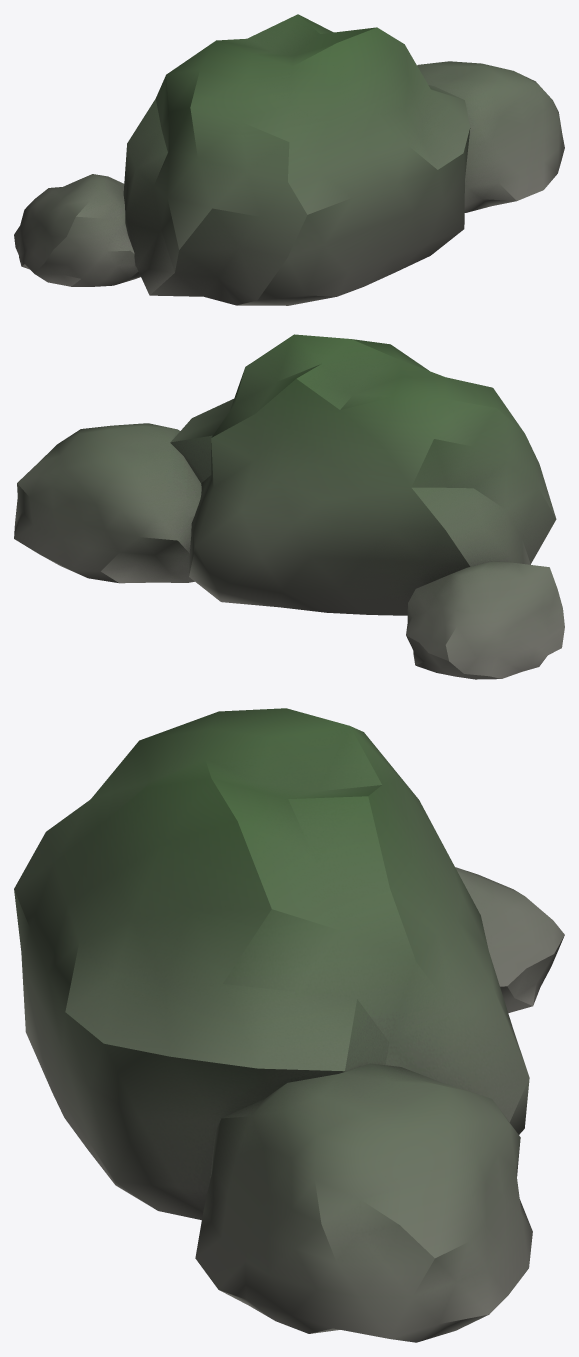
The model's file is garden_rocks.fbx.
3 views of the same model, one above another, from view 1: azimuth 30°, elevation 25°; view 2: azimuth 150°, elevation 25°; view 3: azimuth 270°, elevation 25° (orthographic). The views are drawn at different scales.
Parts seen in each view (by area): view 1: garden_rocks; view 2: garden_rocks; view 3: garden_rocks.
Part boxes in pixels (x1,y1,x2,y2): garden_rocks: (14,14,564,305); garden_rocks: (14,334,564,679); garden_rocks: (14,708,564,1342).
Size of the model in its own units: 795 by 304 by 424.
1 material, 1 textured.
